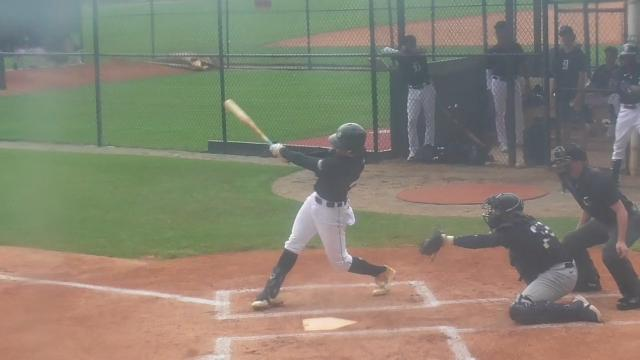bat: (224, 97, 272, 146)
